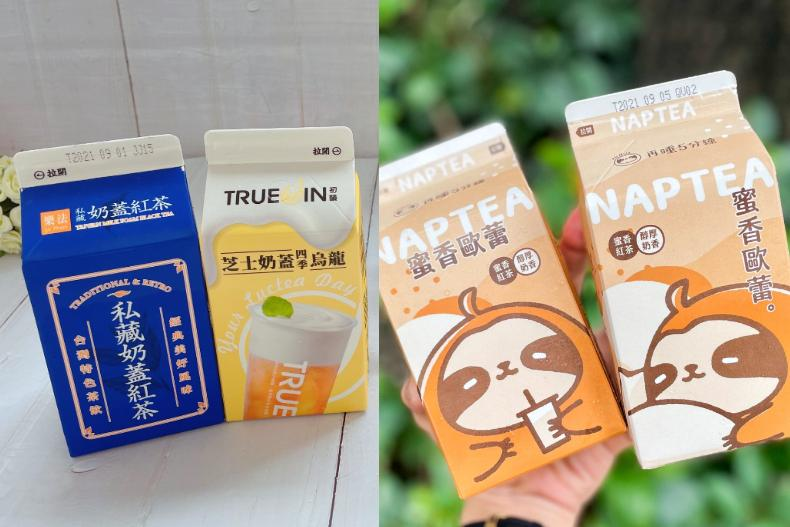cardboard: (379, 123, 624, 496), (566, 71, 789, 466), (15, 135, 223, 456), (202, 126, 367, 419)
